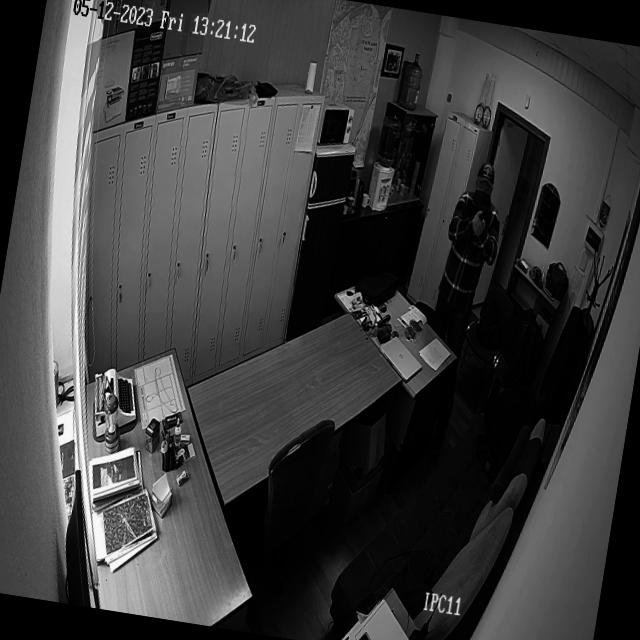gun: (478, 198, 494, 220)
person with a gun: (432, 155, 514, 348)
